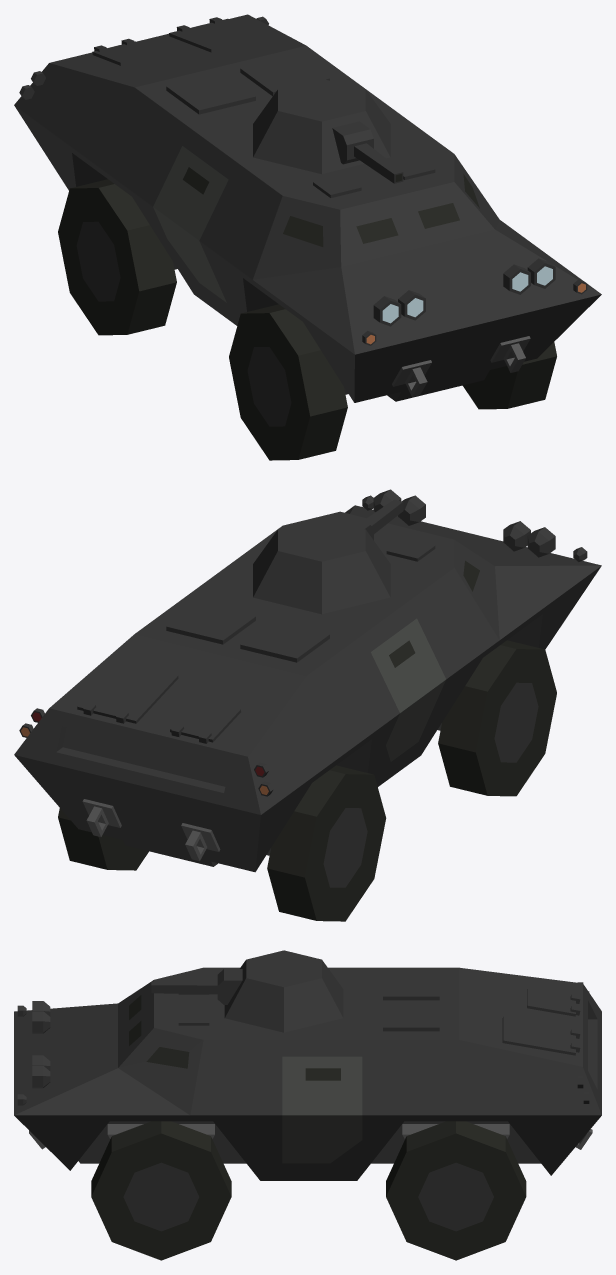
Rendered from Veh_SWAT_Tank.glb.
3 renders of one model, top to bottom at view 1: azimuth 30°, elevation 25°; view 2: azimuth 150°, elevation 25°; view 3: azimuth 270°, elevation 25°, orthographic. The views are drawn at different scales.
Parts seen in each view (by area): view 1: SWAT_Tank, Wheel_FR, Wheel_RR, Turret_Gun, Wheel_FL; view 2: SWAT_Tank, Wheel_RR, Wheel_FR, Turret_Gun, Wheel_RL; view 3: SWAT_Tank, Wheel_FL, Wheel_RL, Turret_Gun.
Part boxes in pixels (x1=…): SWAT_Tank: x1=14, y1=14, x2=601, y2=402; Wheel_FR: x1=229, y1=304, x2=347, y2=460; Wheel_RR: x1=58, y1=179, x2=176, y2=335; Turret_Gun: x1=253, y1=78, x2=403, y2=183; Wheel_FL: x1=462, y1=342, x2=556, y2=409; SWAT_Tank: x1=14, y1=489, x2=601, y2=872; Wheel_RR: x1=267, y1=765, x2=386, y2=921; Wheel_FR: x1=438, y1=640, x2=556, y2=796; Turret_Gun: x1=253, y1=499, x2=403, y2=614; Wheel_RL: x1=58, y1=808, x2=148, y2=870; SWAT_Tank: x1=14, y1=967, x2=601, y2=1180; Wheel_FL: x1=91, y1=1121, x2=231, y2=1260; Wheel_RL: x1=386, y1=1121, x2=526, y2=1260; Turret_Gun: x1=151, y1=950, x2=343, y2=1032.
Bounding box in the file's own units: 1.56 × 1.65 × 3.66.
Materials: 1 (1 with a texture image).
